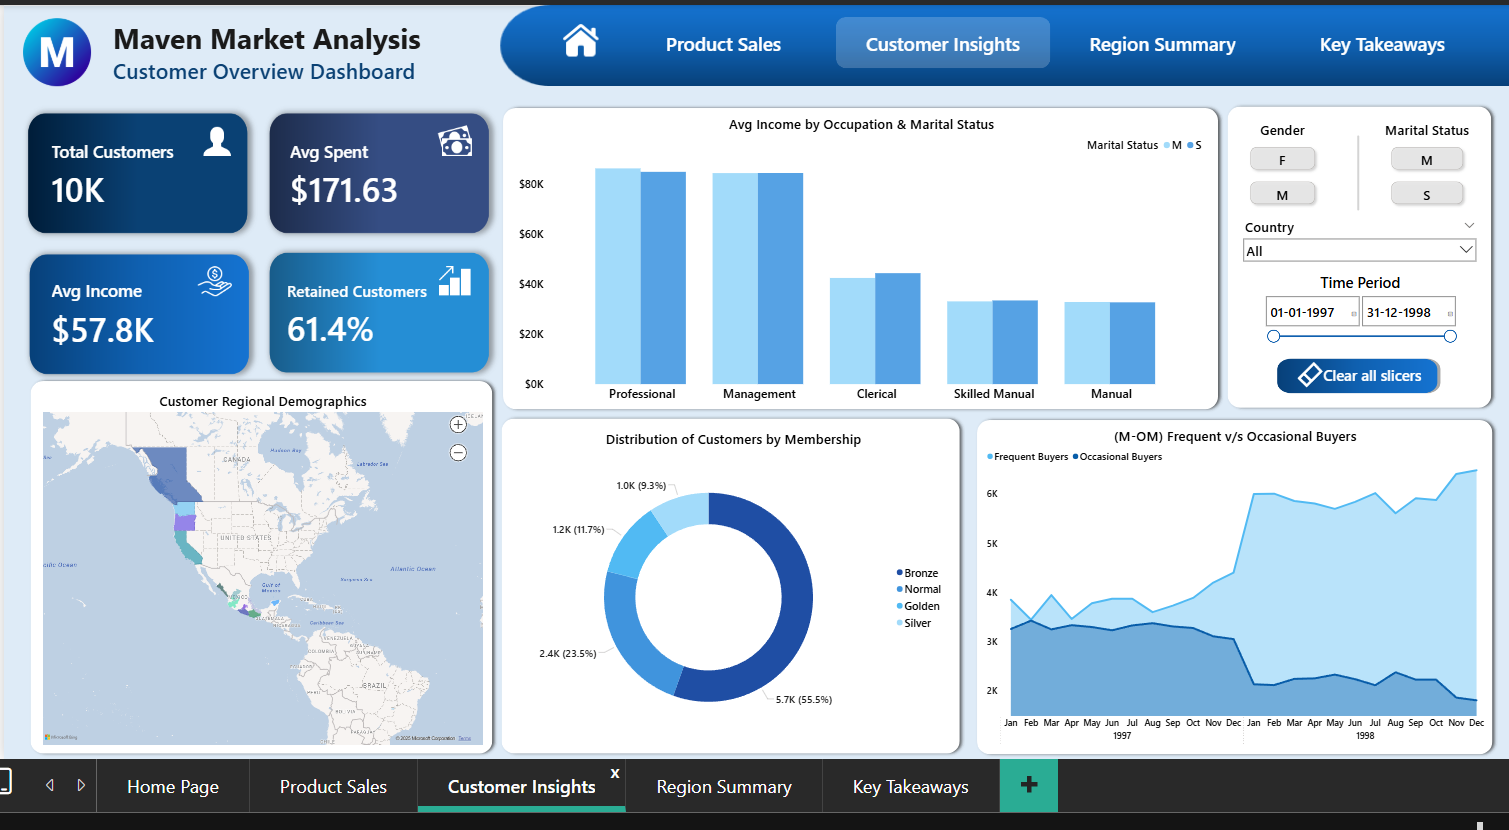

What the dashboard file says about the page in this screenshot:
{"tool":"powerbi","page":{"name":"Customer Insights","canvas":[3000,1500],"ordinal":2},"visuals":[{"type":"shape","box":[2423.9,191.6,546.5,621.1],"z":0},{"type":"image","box":[2526.8,699.1,335.9,78.7],"z":0,"group":"g1"},{"type":"image","box":[24.8,21.3,163.3,145.5],"z":1000},{"type":"textbox","box":[212.9,21.3,692,145.5],"z":2000},{"type":"image","box":[511,472,481.2,281.3],"z":2000,"group":"g5"},{"type":"image","box":[31.9,475.6,481.2,281.3],"z":3000,"group":"g4"},{"type":"image","box":[30.5,193.2,481.2,281.3],"z":5000,"group":"g2"},{"type":"image","box":[511.7,193.2,481.2,281.3],"z":6000,"group":"g3"},{"type":"slicer","title":"Time Period","fields":{"Values":["Calendar.date"]},"box":[2498.4,532.3,401,166.8],"z":8000},{"type":"group","id":"g1","title":"Group 1","box":[2526.8,699.1,337.1,78.1],"z":9000},{"type":"shape","box":[983.1,195.2,1444.4,621.1],"z":10000},{"type":"shape","box":[979.5,812.7,933.4,688.5],"z":11000},{"type":"shape","box":[42.6,738.2,940.5,763],"z":12000},{"type":"shape","box":[1924.7,814.1,1047.1,687],"z":13000},{"type":"advancedSlicerVisual","title":"Gender","fields":{"Values":["Customers.gender"]},"box":[2462.9,230.7,163.3,184.5],"z":14000},{"type":"advancedSlicerVisual","title":"Marital Status","fields":{"Values":["Customers.marital_status"]},"box":[2743.3,230.7,177.4,184.5],"z":15000},{"type":"group","id":"g2","title":"Group 2","box":[30.5,193.2,481.2,281.3],"z":16000},{"type":"group","id":"g3","title":"Group 3","box":[511.7,193.2,481.2,281.3],"z":17000},{"type":"image","box":[830.4,503.9,134.9,78.1],"z":17000,"group":"g5"},{"type":"actionButton","box":[2560.1,705.2,272.4,63.6],"z":17000,"group":"g1"},{"type":"group","id":"g4","title":"Group 4","box":[31.9,475.6,481.2,281.3],"z":18000},{"type":"clusteredColumnChart","title":"Avg Income by Occupation & Marital Status","fields":{"Category":["Customers.occupation"],"Series":["Customers.marital_status"],"Y":["Avg(Customers.income)"]},"box":[1018.5,216.5,1377,582],"z":19000},{"type":"group","id":"g5","title":"Group 5","box":[511,472,481.2,281.3],"z":20000},{"type":"cardVisual","fields":{"Data":["Measure_Table.Customer Retention %"]},"box":[546.5,528.8,351.3,177.4],"z":20001,"group":"g5"},{"type":"donutChart","title":"Distribution of Customers by Membership","fields":{"Y":["CountNonNull(Customers.customer_id)"],"Category":["Customers.member_card"]},"box":[1022.1,844.6,855.3,631.7],"z":21000},{"type":"image","box":[351.3,512,134.9,78.1],"z":21004,"group":"g4"},{"type":"image","box":[830.5,230.7,134.9,78.1],"z":22000,"group":"g3"},{"type":"filledMap","title":"Customer Regional Demographics","fields":{"Category":["Customers.customer_state"],"Series":["Customers.customer_state"]},"box":[71,770.1,887.2,706.2],"z":22000},{"type":"cardVisual","fields":{"Data":["Measure_Table.Total Customers"]},"box":[78.1,248.5,287.5,170.3],"z":23000,"group":"g2"},{"type":"slicer","fields":{"Values":["Customers.customer_country"]},"box":[2455.9,418.8,482.7,113.6],"z":23000},{"type":"image","box":[365.5,230.7,120.7,78.1],"z":24000,"group":"g2"},{"type":"shape","box":[2640.4,259.1,106.5,149.1],"z":24000},{"type":"cardVisual","fields":{"Data":["Measure_Table.Avg Spent"]},"box":[553.6,248.5,276.8,170.3],"z":25000,"group":"g3"},{"type":"areaChart","title":"(M-OM) Frequent v/s Occasional Buyers","fields":{"Category":["Calendar.Year","Calendar.Month"],"Y":["Measure_Table.Frequent Buyer_count","Measure_Table.Occasional Buyer_count"]},"box":[1948.9,838.3,1001.7,641.6],"z":25000},{"type":"pageNavigator","box":[1217.3,24.8,1739,102.9],"z":25001},{"type":"image","box":[1077.3,20.9,140.3,104.4],"z":25002},{"type":"cardVisual","fields":{"Data":["Measure_Table.Avg Income"]},"box":[78,528.8,276.8,170.3],"z":26000,"group":"g4"}]}

Visuals, with their boxes on the page's 3000x1500 design canvas (x1, y1, x2, y2). These are canvas units, not pixel positions in the 1509x830 screenshot, which may show the page scaled, cropped or inside an application window:
shape: [2424, 192, 2970, 813]
image: [2527, 699, 2863, 778]
image: [25, 21, 188, 167]
textbox: [213, 21, 905, 167]
image: [511, 472, 992, 753]
image: [32, 476, 513, 757]
image: [30, 193, 512, 474]
image: [512, 193, 993, 474]
"Time Period" slicer: [2498, 532, 2899, 699]
"Group 1" group: [2527, 699, 2864, 777]
shape: [983, 195, 2428, 816]
shape: [980, 813, 1913, 1501]
shape: [43, 738, 983, 1501]
shape: [1925, 814, 2972, 1501]
"Gender" advancedSlicerVisual: [2463, 231, 2626, 415]
"Marital Status" advancedSlicerVisual: [2743, 231, 2921, 415]
"Group 2" group: [30, 193, 512, 474]
"Group 3" group: [512, 193, 993, 474]
image: [830, 504, 965, 582]
actionButton: [2560, 705, 2832, 769]
"Group 4" group: [32, 476, 513, 757]
"Avg Income by Occupation & Marital Status" clusteredColumnChart: [1018, 216, 2396, 798]
"Group 5" group: [511, 472, 992, 753]
cardVisual - Measure_Table.Customer Retention %: [546, 529, 898, 706]
"Distribution of Customers by Membership" donutChart: [1022, 845, 1877, 1476]
image: [351, 512, 486, 590]
image: [830, 231, 965, 309]
"Customer Regional Demographics" filledMap: [71, 770, 958, 1476]
cardVisual - Measure_Table.Total Customers: [78, 248, 366, 419]
slicer - Customers.customer_country: [2456, 419, 2939, 532]
image: [366, 231, 486, 309]
shape: [2640, 259, 2747, 408]
cardVisual - Measure_Table.Avg Spent: [554, 248, 830, 419]
"(M-OM) Frequent v/s Occasional Buyers" areaChart: [1949, 838, 2951, 1480]
pageNavigator: [1217, 25, 2956, 128]
image: [1077, 21, 1218, 125]
cardVisual - Measure_Table.Avg Income: [78, 529, 355, 699]
